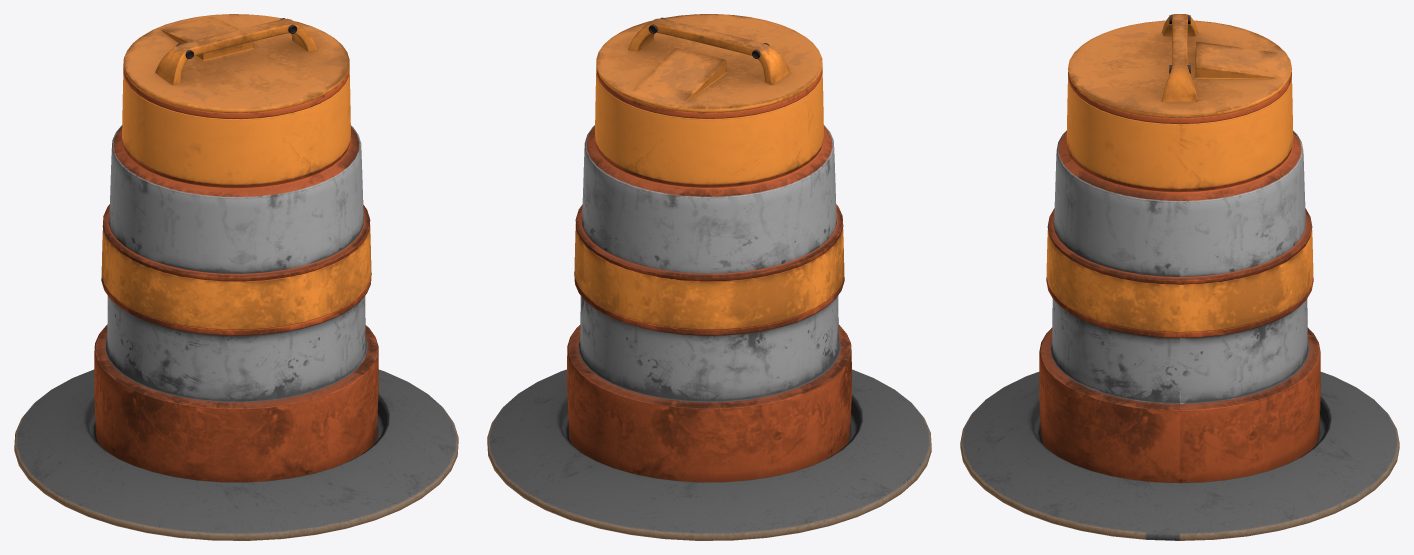
Rendered from traffic4.glb.
3 views of the same model, side by side, from view 1: azimuth 30°, elevation 25°; view 2: azimuth 150°, elevation 25°; view 3: azimuth 270°, elevation 25° (orthographic).
Parts seen in each view (by area): view 1: major_low; view 2: major_low; view 3: major_low.
Boxes of the visible parts, x1,y1,x2,y2 form: major_low: [14, 14, 458, 540]; major_low: [487, 14, 931, 540]; major_low: [960, 14, 1399, 540].
Bounding box in the file's own units: 0.4745 × 0.4879 × 0.4745.
Materials: 1 (1 with a texture image).
